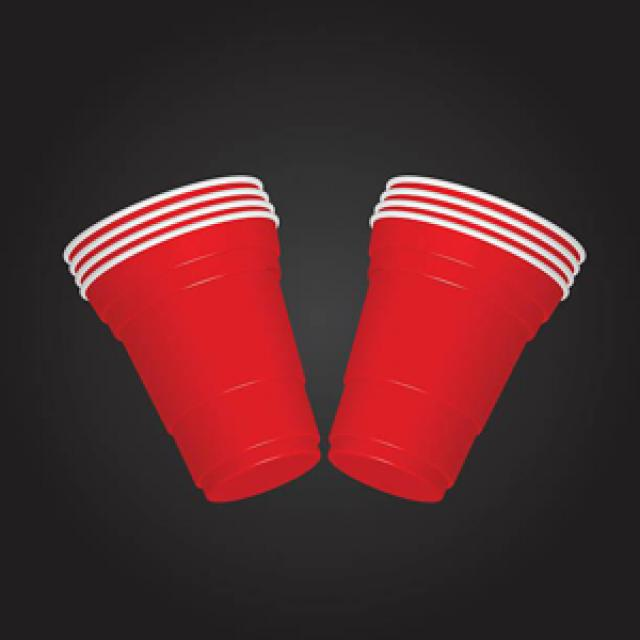plastic cup: (53, 164, 322, 510), (326, 173, 587, 510)
